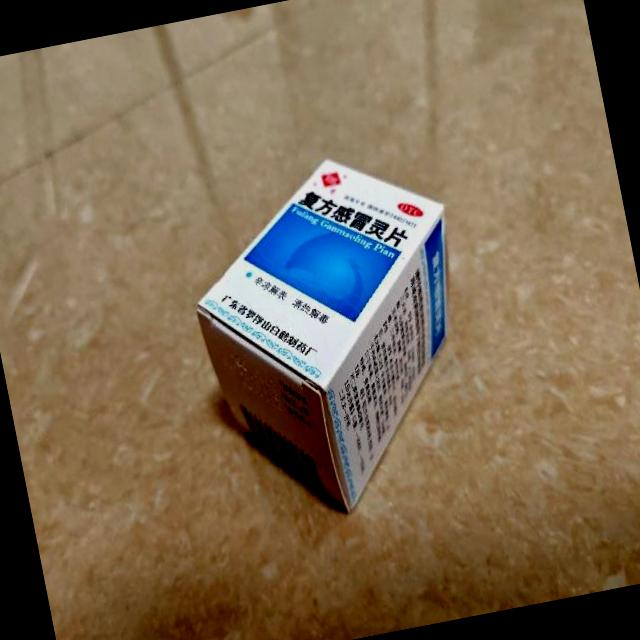box: (172, 140, 498, 536)
